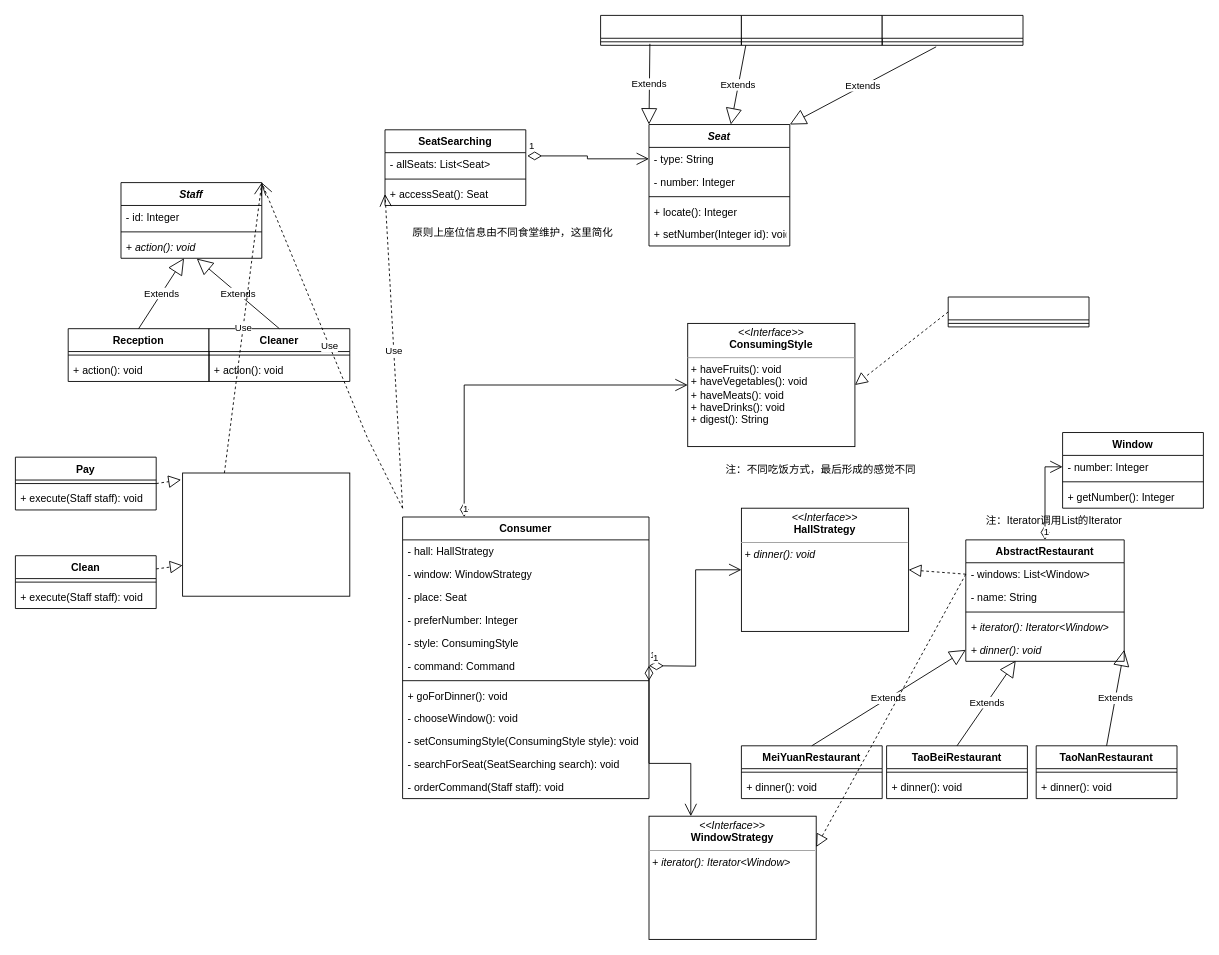
The diagram is 1219 pixels wide and 955 high, and some of its shapes have lost their labels. The shapes that lost their labels are listed below. From the top down, each one's centre as x and y in pixels, then its label:
At (x=670, y=30): "Sofa".
At (x=811, y=30): "SoftSeat".
At (x=952, y=30): "SolidSeat".
At (x=1018, y=311): "ChewDown".
At (x=266, y=534): "<<Interface>> Command + execute(Staff staff): void".
